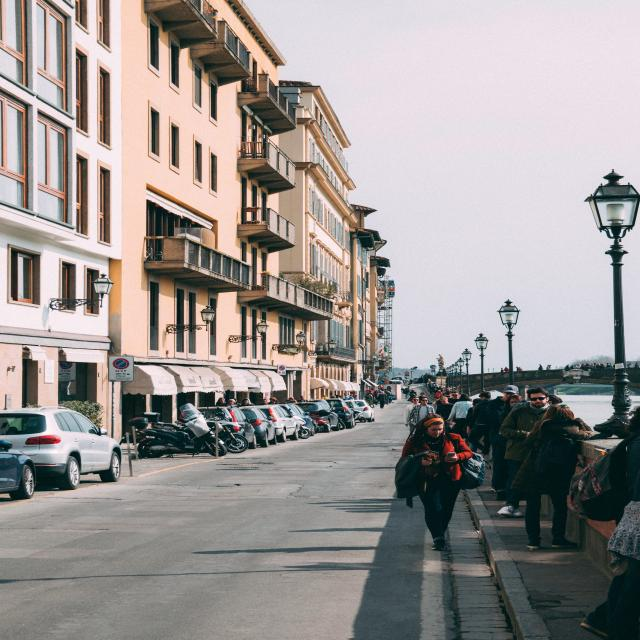adult: (397, 413, 473, 552), (520, 404, 590, 552), (497, 388, 558, 520), (473, 391, 495, 458), (408, 397, 434, 434), (435, 396, 455, 420)
